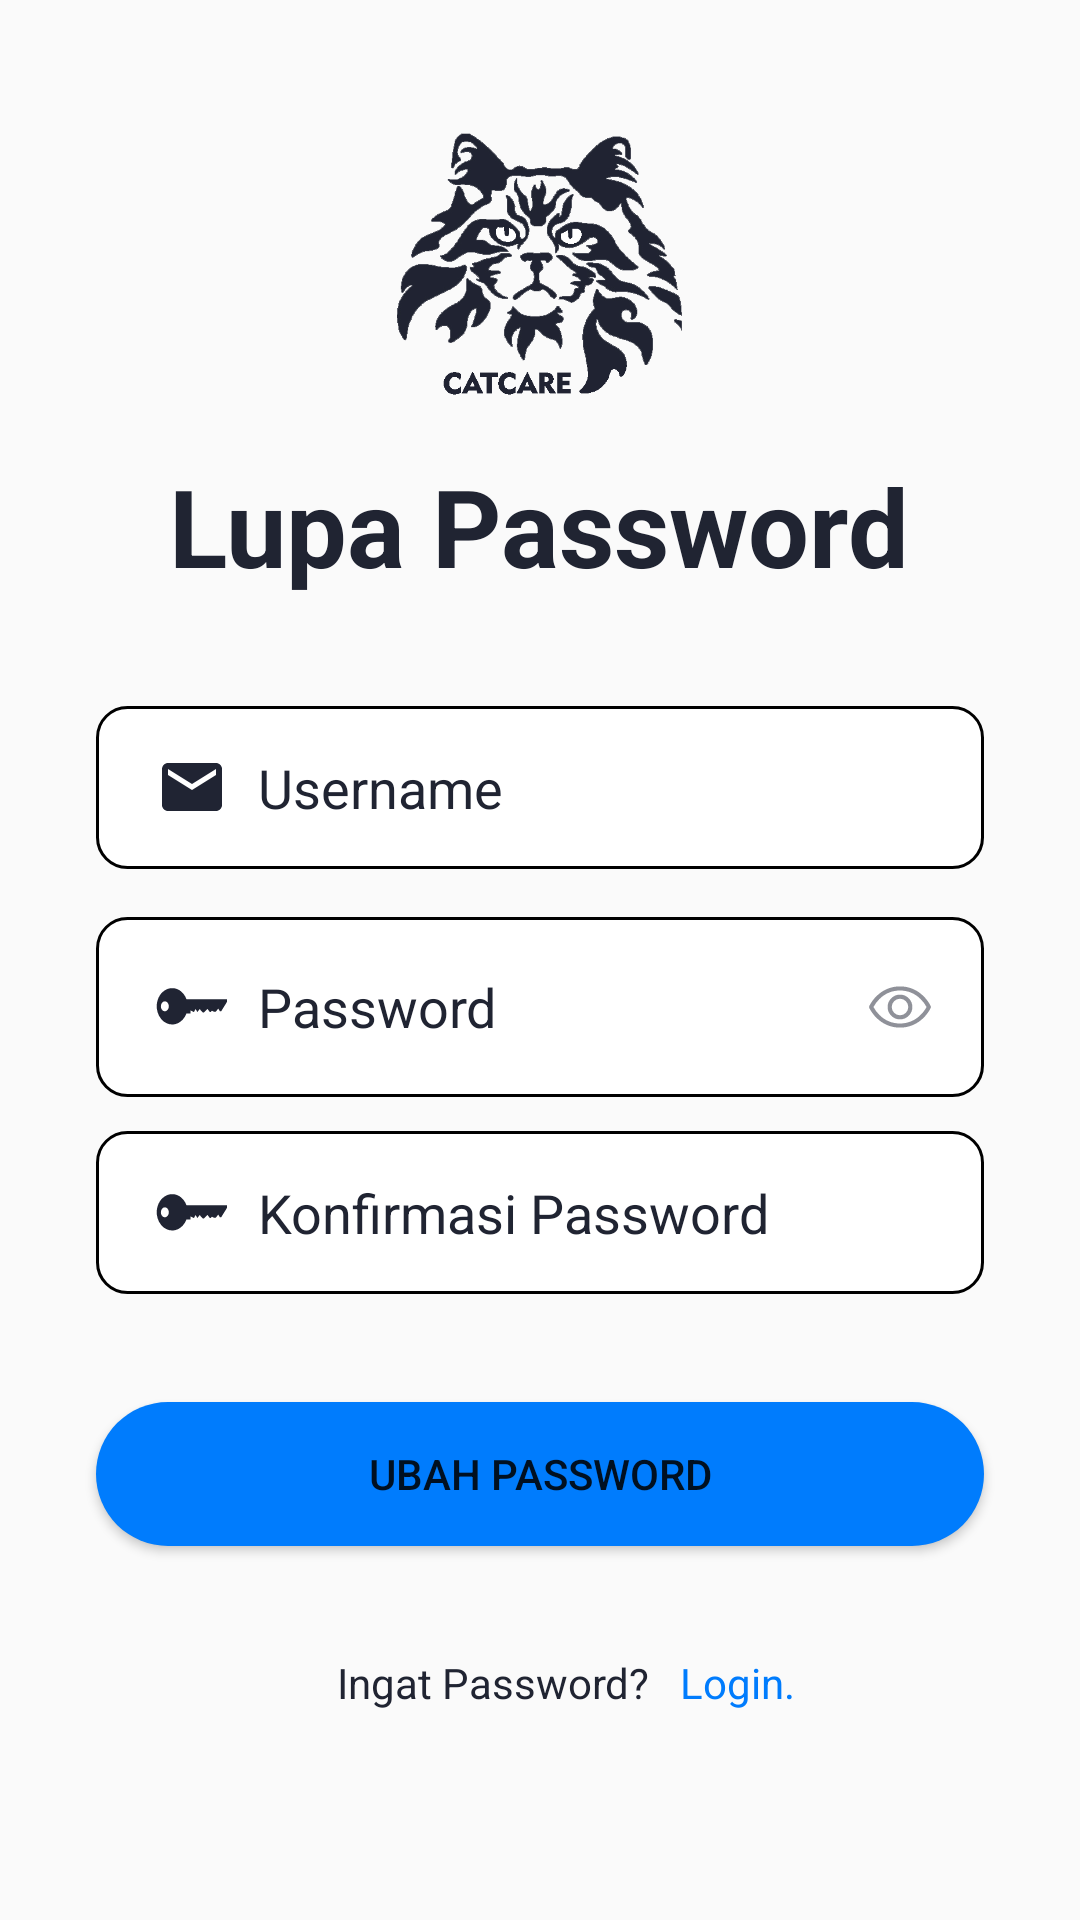

Icons on this 1080×1920 Android screen, each with its box as (x1,y1,x2,y2):
eye: (869,986,931,1028)
